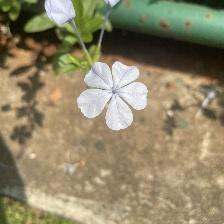chitrak: (75, 56, 150, 132)
